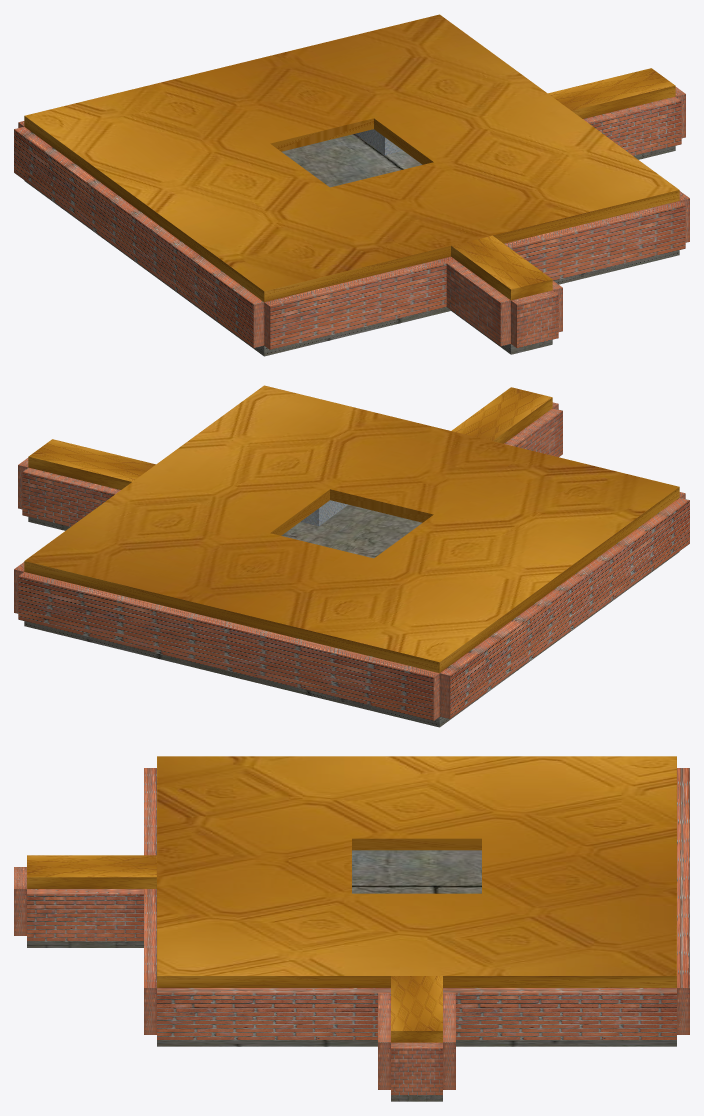
The model's file is level001.FBX.
3 renders of one model, top to bottom at view 1: azimuth 30°, elevation 25°; view 2: azimuth 150°, elevation 25°; view 3: azimuth 270°, elevation 25°, orthographic. The views are drawn at different scales.
Visible parts, largest first — view 1: Box17, Box02, Box05, Box06, Box01, Box15, Box19, Box18, Box10, Box08, Box03; view 2: Box17, Box04, Box02, Box01, Box14, Box18, Box19, Box10, Box21; view 3: Box17, Box13, Box16, Box01, Box09, Box19, Box18, Box04, Box11, Box06, Box14, Box15 (+3 smaller).
Part boxes in pixels (<box>): Box17: <box>24,14,679,301</box>; Box02: <box>14,126,264,347</box>; Box05: <box>264,256,456,349</box>; Box06: <box>504,201,685,280</box>; Box01: <box>24,133,679,356</box>; Box15: <box>583,96,681,155</box>; Box19: <box>451,235,552,300</box>; Box18: <box>548,68,675,118</box>; Box10: <box>446,261,510,346</box>; Box08: <box>511,290,558,348</box>; Box03: <box>356,129,402,155</box>; Box17: <box>24,385,679,672</box>; Box04: <box>18,572,439,720</box>; Box02: <box>439,497,689,718</box>; Box01: <box>24,504,679,727</box>; Box14: <box>22,467,120,526</box>; Box18: <box>28,439,155,489</box>; Box19: <box>451,387,552,443</box>; Box10: <box>504,408,562,457</box>; Box21: <box>301,500,347,526</box>; Box17: <box>157,756,676,987</box>; Box13: <box>443,988,676,1040</box>; Box16: <box>157,988,390,1040</box>; Box01: <box>157,850,676,1046</box>; Box09: <box>27,889,143,941</box>; Box19: <box>27,855,156,888</box>; Box18: <box>391,976,442,1042</box>; Box04: <box>677,768,689,1034</box>; Box11: <box>391,1042,442,1095</box>; Box06: <box>144,889,156,1034</box>; Box14: <box>443,993,455,1089</box>; Box15: <box>378,993,390,1089</box>.
Size of the model in its own units: 52 by 52 by 6.
